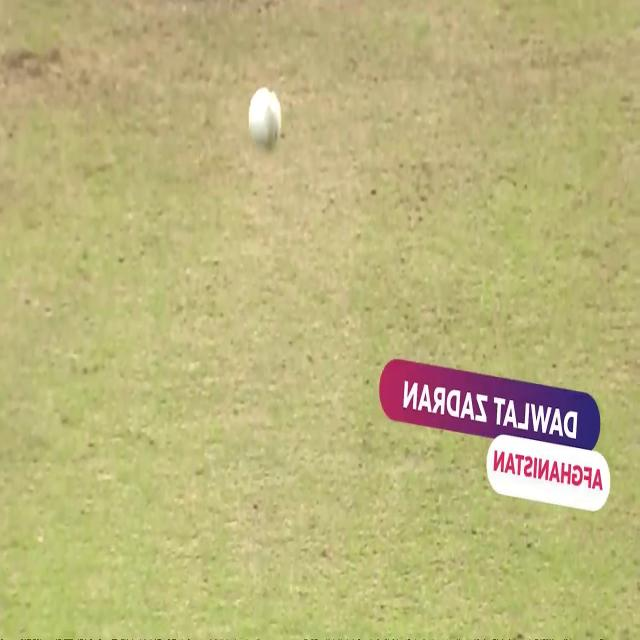ball: (247, 85, 281, 155)
